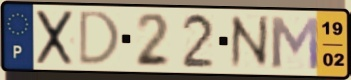2: (133, 12, 173, 69), (180, 12, 216, 72)
D: (77, 9, 123, 68)
M: (267, 14, 322, 72)
N: (227, 13, 272, 71)
X: (34, 8, 76, 67)
